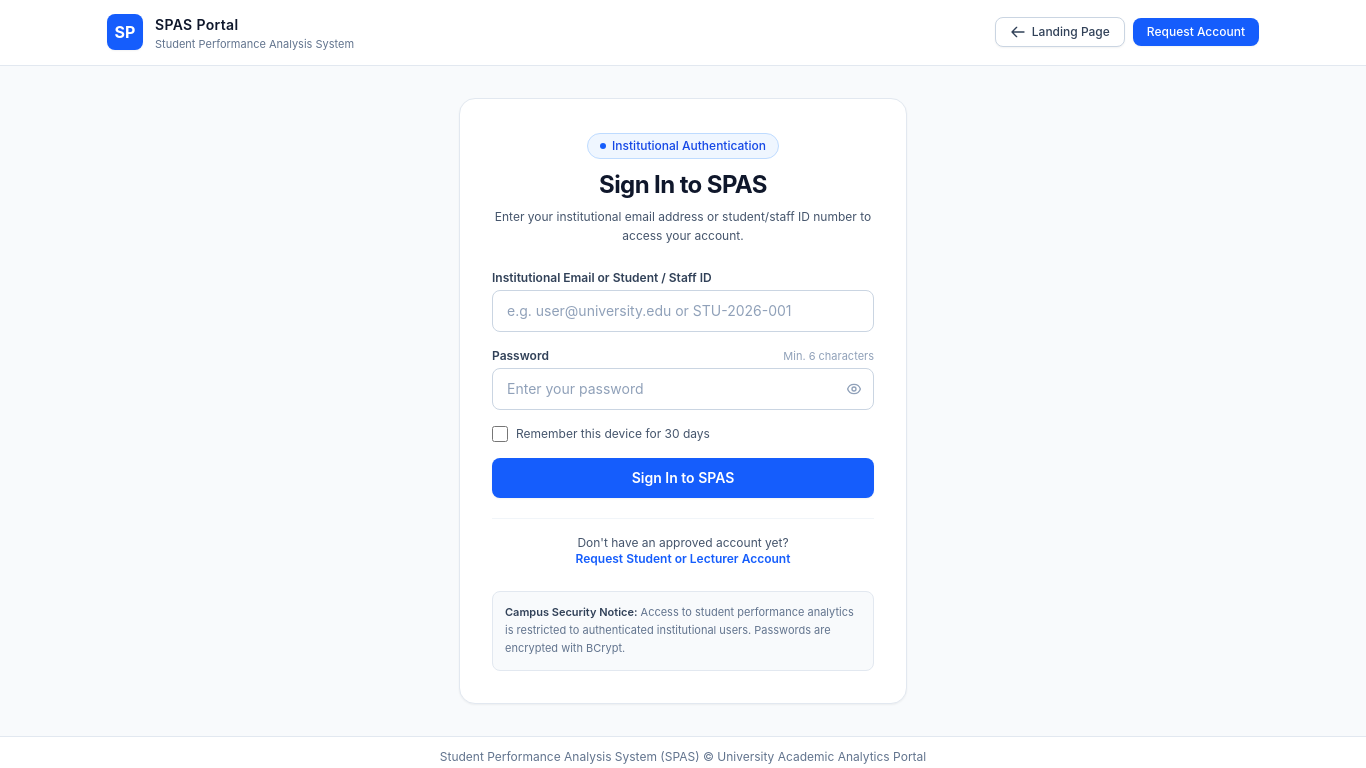
Test: LoginPage › validates required fields on empty submit
Click the button "Sign In to SPAS".
click(683, 478)  # box [492, 458, 874, 498]
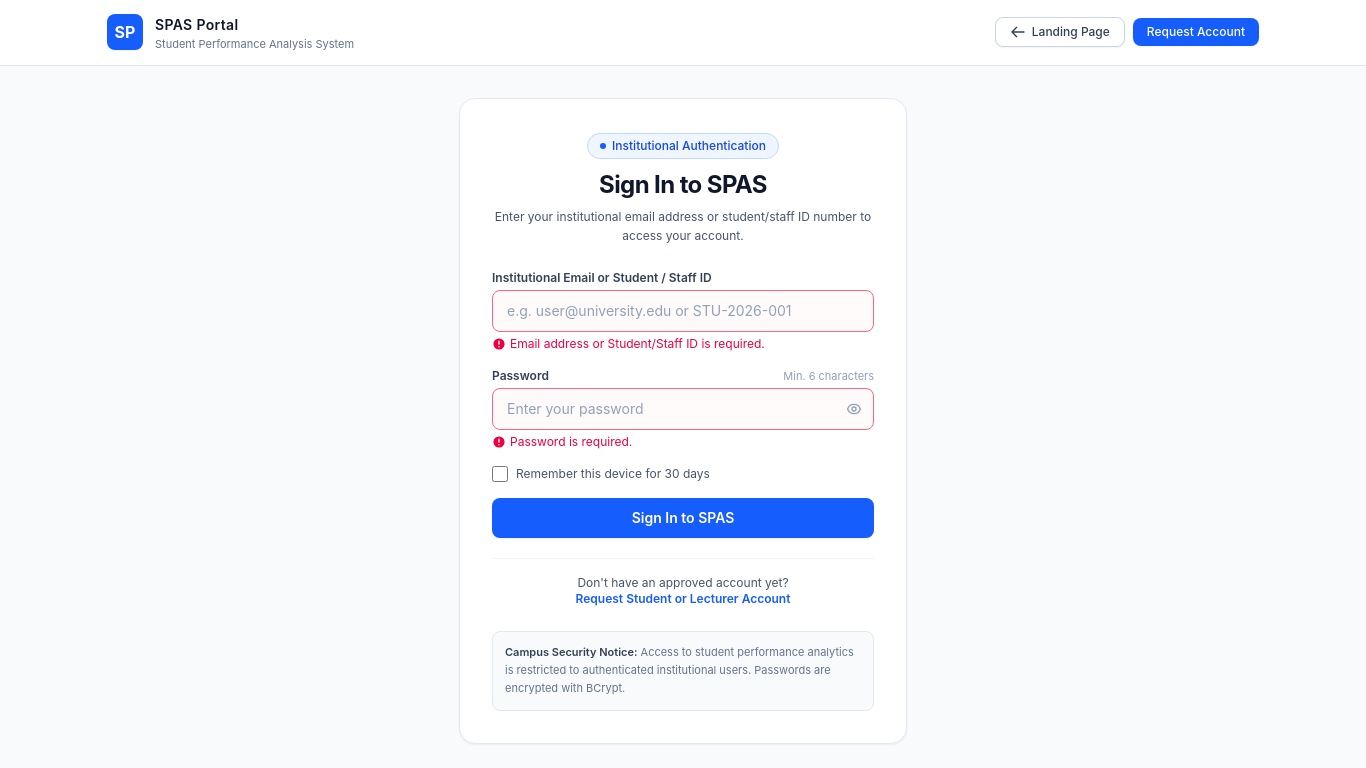
Expected: the text "Email address or Student/Staff ID is required." is shown, [492, 336, 765, 350]
Expected: the text "Password is required." is shown, [492, 434, 632, 449]
